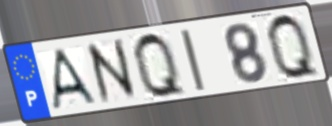8: (223, 20, 273, 86)
A: (50, 46, 101, 113)
I: (177, 27, 209, 94)
N: (82, 36, 141, 108)
Q: (264, 11, 323, 82), (131, 30, 190, 101)
